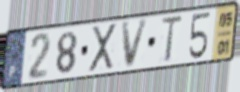2: (28, 32, 52, 82)
5: (188, 10, 213, 61)
8: (55, 30, 80, 76)
T: (159, 14, 184, 65)
V: (120, 17, 150, 72)
X: (88, 22, 118, 75)
